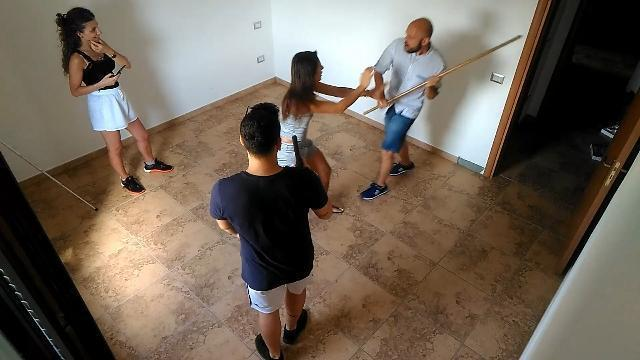non-violence: (56, 6, 174, 196)
violence: (280, 17, 520, 210), (208, 102, 332, 360)
weapon: (291, 136, 304, 168)
